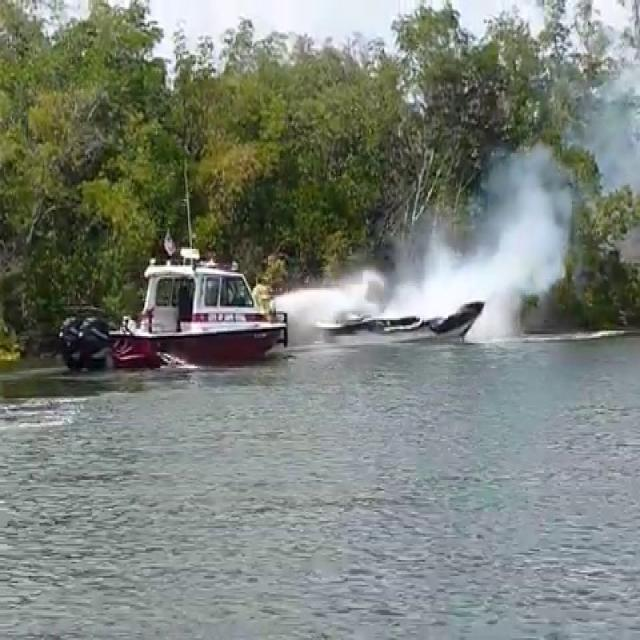Smoke: (356, 126, 576, 342)
